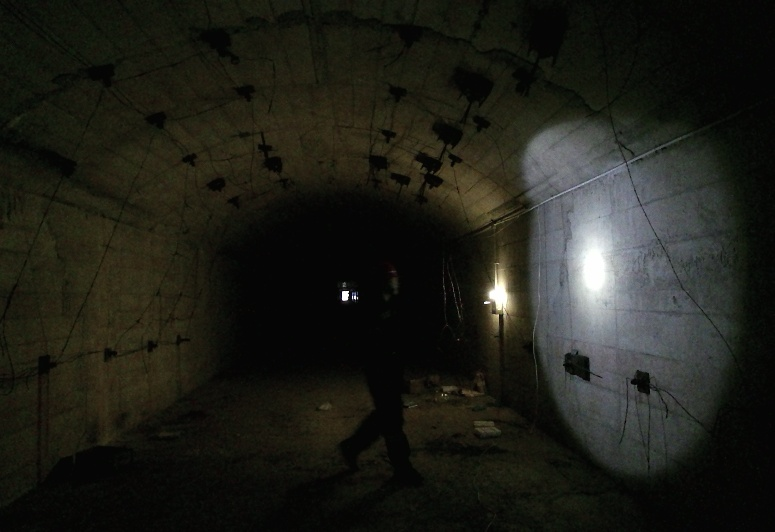person: (345, 260, 428, 481)
